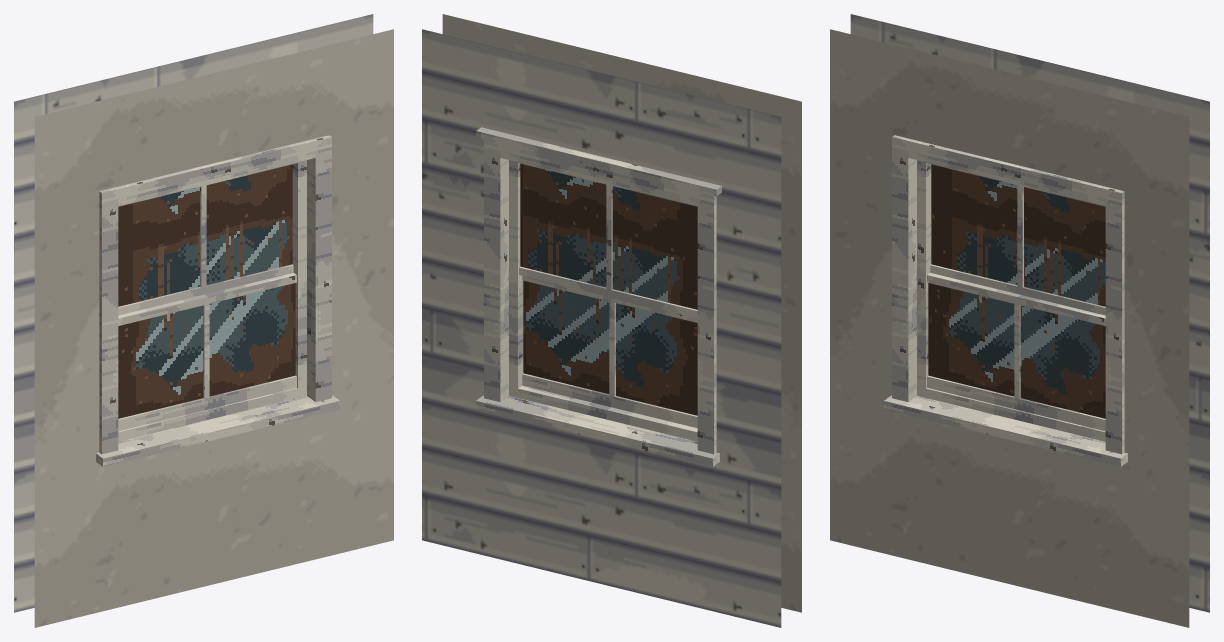
Rendered from RES_Ext_Wall_2m_Window_White.obj.
3 renders of one model, left to right at view 1: azimuth 30°, elevation 25°; view 2: azimuth 150°, elevation 25°; view 3: azimuth 330°, elevation 25°, orthographic.
Visible parts, largest first — view 1: RES_Ext_Wall_2m_Window_White_Mesh_M_Int_DrywallLight, RES_Ext_Wall_2m_Window_White_Mesh_M_Arch_TrimPainted, RES_Ext_Wall_2m_Window_White_Mesh_M_Arch_SidingWhite, RES_Ext_Wall_2m_Window_White_Mesh_M_Arch_WindowGlassDirty, INT_WindowSash_M_Arch_WindowGlassDirty, INT_WindowSash_M_Arch_TrimPainted; view 2: RES_Ext_Wall_2m_Window_White_Mesh_M_Arch_SidingWhite, RES_Ext_Wall_2m_Window_White_Mesh_M_Arch_TrimPainted, RES_Ext_Wall_2m_Window_White_Mesh_M_Arch_WindowGlassDirty, RES_Ext_Wall_2m_Window_White_Mesh_M_Int_DrywallLight, INT_WindowSash_M_Arch_WindowGlassDirty, INT_WindowSash_M_Arch_TrimPainted; view 3: RES_Ext_Wall_2m_Window_White_Mesh_M_Int_DrywallLight, RES_Ext_Wall_2m_Window_White_Mesh_M_Arch_TrimPainted, RES_Ext_Wall_2m_Window_White_Mesh_M_Arch_SidingWhite, RES_Ext_Wall_2m_Window_White_Mesh_M_Arch_WindowGlassDirty, INT_WindowSash_M_Arch_WindowGlassDirty, INT_WindowSash_M_Arch_TrimPainted.
Boxes of the visible parts, x1,y1,x2,y2 form: RES_Ext_Wall_2m_Window_White_Mesh_M_Int_DrywallLight: (34,29,393,627); RES_Ext_Wall_2m_Window_White_Mesh_M_Arch_TrimPainted: (96,135,339,466); RES_Ext_Wall_2m_Window_White_Mesh_M_Arch_SidingWhite: (14,14,373,612); RES_Ext_Wall_2m_Window_White_Mesh_M_Arch_WindowGlassDirty: (118,164,292,306); INT_WindowSash_M_Arch_WindowGlassDirty: (118,283,295,418); INT_WindowSash_M_Arch_TrimPainted: (118,273,296,431); RES_Ext_Wall_2m_Window_White_Mesh_M_Arch_SidingWhite: (422,29,781,627); RES_Ext_Wall_2m_Window_White_Mesh_M_Arch_TrimPainted: (476,127,721,466); RES_Ext_Wall_2m_Window_White_Mesh_M_Arch_WindowGlassDirty: (520,163,697,309); RES_Ext_Wall_2m_Window_White_Mesh_M_Int_DrywallLight: (442,14,801,612); INT_WindowSash_M_Arch_WindowGlassDirty: (523,280,697,415); INT_WindowSash_M_Arch_TrimPainted: (522,276,697,428); RES_Ext_Wall_2m_Window_White_Mesh_M_Int_DrywallLight: (830,29,1189,627); RES_Ext_Wall_2m_Window_White_Mesh_M_Arch_TrimPainted: (884,135,1127,466); RES_Ext_Wall_2m_Window_White_Mesh_M_Arch_SidingWhite: (850,14,1209,612); RES_Ext_Wall_2m_Window_White_Mesh_M_Arch_WindowGlassDirty: (931,164,1105,306); INT_WindowSash_M_Arch_WindowGlassDirty: (928,283,1105,418); INT_WindowSash_M_Arch_TrimPainted: (927,273,1105,431).
Bounding box in the file's own units: 2 × 2.72 × 0.34.
4 materials, 4 textured.
